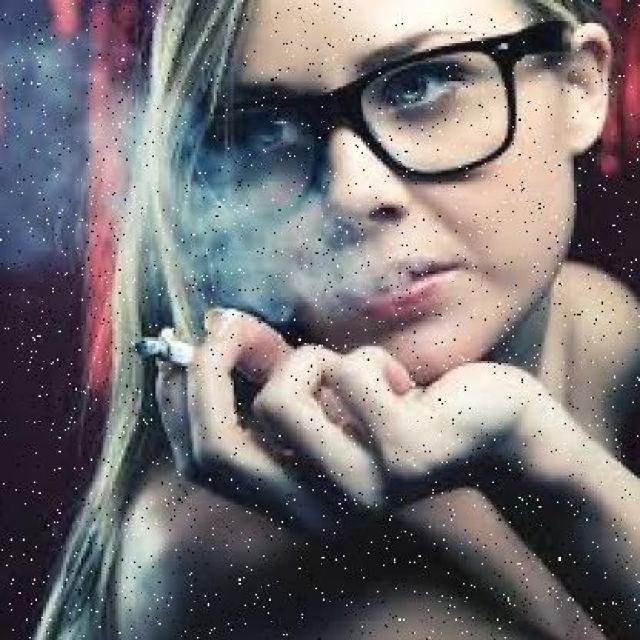glasses: (175, 24, 532, 227)
